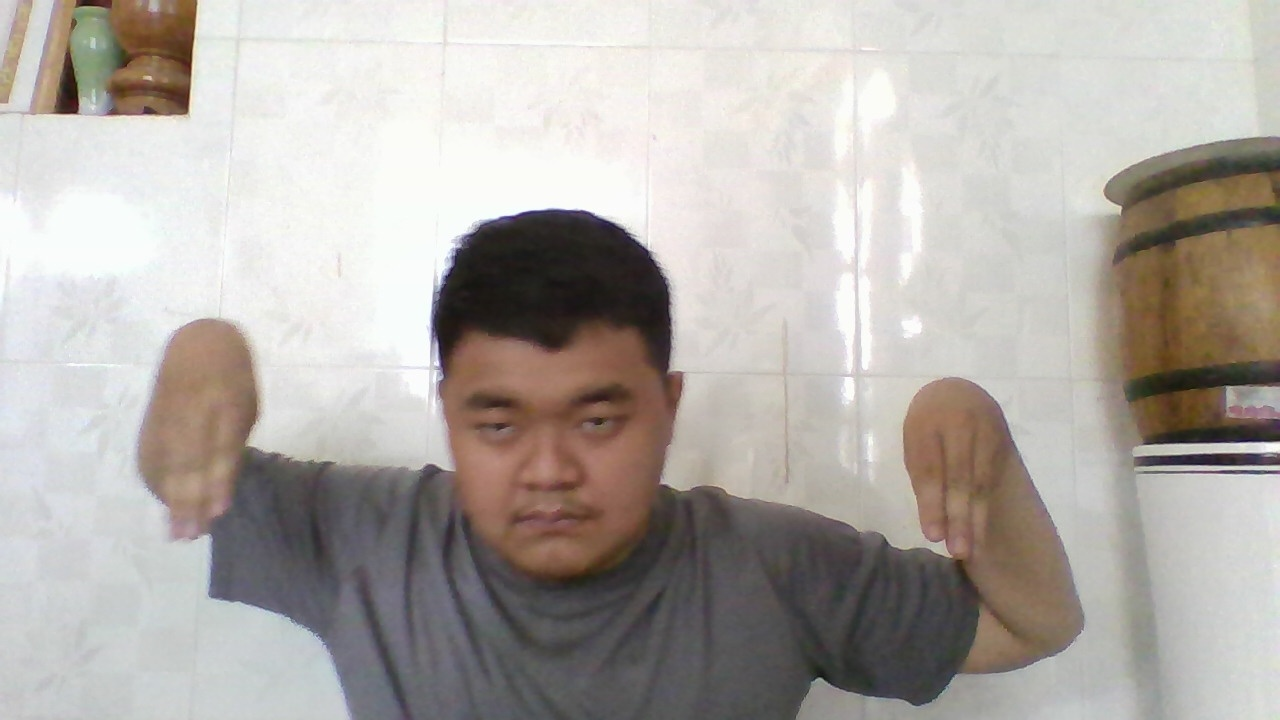M: (133, 331, 261, 543), (896, 375, 1017, 566)
